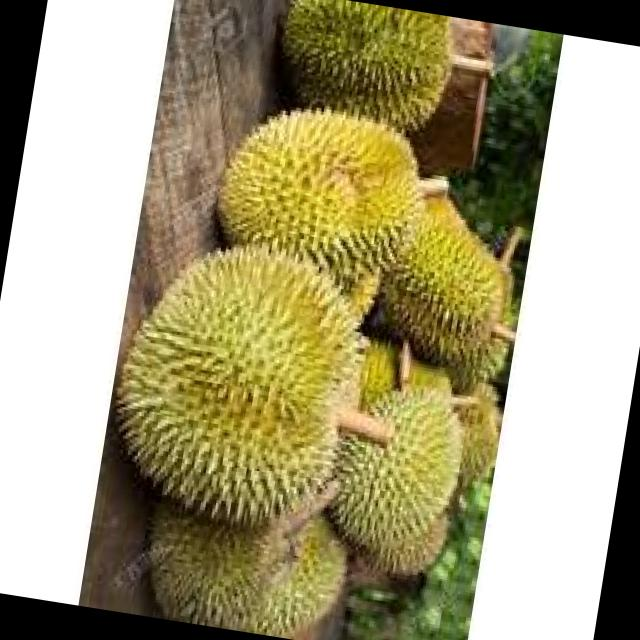fruit: (94, 214, 403, 554), (185, 77, 459, 349), (121, 488, 368, 640), (249, 0, 478, 158)
